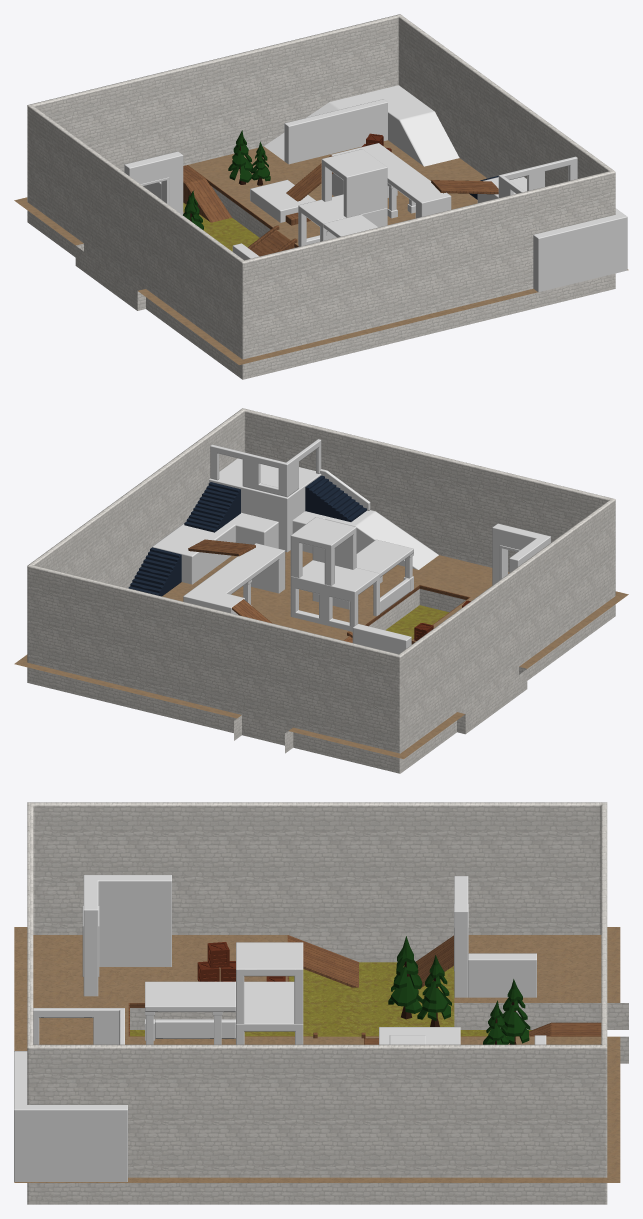
The model's file is LevelModel.fbx.
The picture shows the model from 3 angles, top to bottom: view 1: azimuth 30°, elevation 25°; view 2: azimuth 150°, elevation 25°; view 3: azimuth 270°, elevation 25°; orthographic projection. The views are drawn at different scales.
Visible parts, largest first — view 1: Plane002, Object007, Box023, Box005, Object008, Box014, Box002, Object001, Box012, Box013, Box006, Box037 (+8 smaller); view 2: Plane002, Object007, Box022, Box013, Box002, Box023, Object001, Box014, Box024, Plane012, Plane013, Box011 (+7 smaller); view 3: Plane002, Object007, Box023, Box011, Object006, Object001, Box014, Box013, Object003, Object009, Box024, Box012 (+10 smaller).
Part boxes in pixels (x1,y1,x2,y2): Plane002: [27, 14, 615, 379]; Object007: [14, 140, 628, 364]; Box023: [533, 208, 627, 292]; Box005: [264, 85, 459, 166]; Object008: [284, 99, 387, 164]; Box014: [321, 149, 387, 217]; Box002: [331, 143, 451, 218]; Object001: [75, 186, 295, 310]; Box012: [124, 151, 183, 214]; Box013: [298, 194, 387, 246]; Box006: [250, 179, 315, 222]; Box037: [183, 165, 231, 222]; Plane002: [27, 408, 615, 773]; Object007: [14, 550, 628, 758]; Box022: [152, 510, 438, 584]; Box013: [290, 560, 379, 631]; Box002: [183, 543, 285, 614]; Box023: [209, 458, 321, 552]; Object001: [234, 589, 527, 753]; Box014: [290, 517, 356, 585]; Box024: [210, 439, 321, 497]; Plane012: [184, 482, 240, 532]; Plane013: [128, 547, 181, 596]; Box011: [492, 523, 550, 585]; Plane002: [27, 802, 607, 1204]; Object007: [14, 927, 620, 1182]; Box023: [14, 1051, 127, 1181]; Box011: [83, 875, 171, 996]; Object006: [130, 962, 531, 1036]; Object001: [130, 1003, 628, 1063]; Box014: [236, 942, 303, 1023]; Box013: [236, 981, 303, 1044]; Object003: [468, 953, 536, 997]; Object009: [145, 981, 235, 1011]; Box024: [33, 1008, 124, 1044]; Box012: [454, 876, 468, 997].
Size of the model in its own units: 4800 by 1405 by 4871.
Materials: 8 (4 with a texture image).
